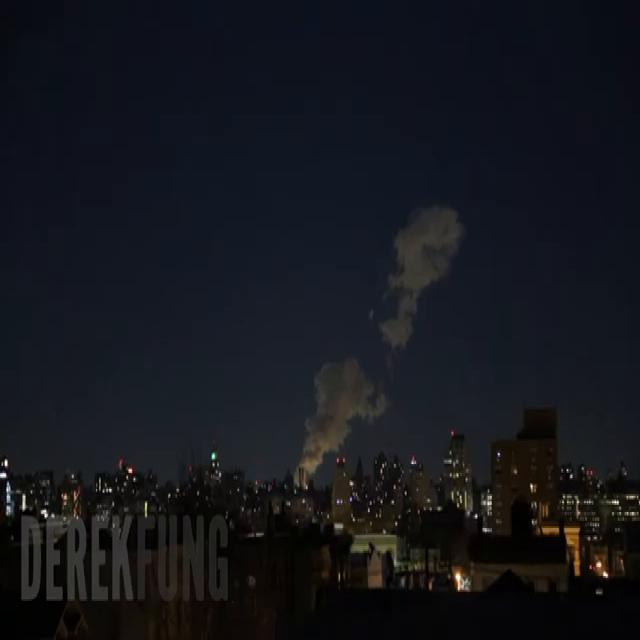smoke: (374, 204, 464, 377)
